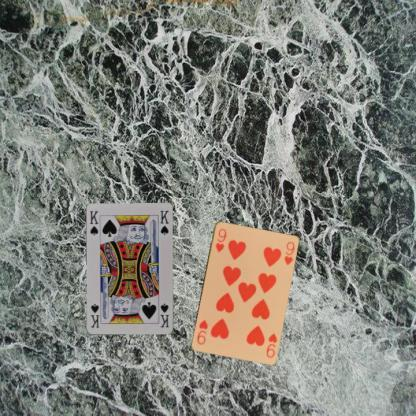9h: (263, 330, 278, 359), (212, 226, 228, 253)
Ks: (88, 208, 100, 237), (158, 301, 170, 329)
